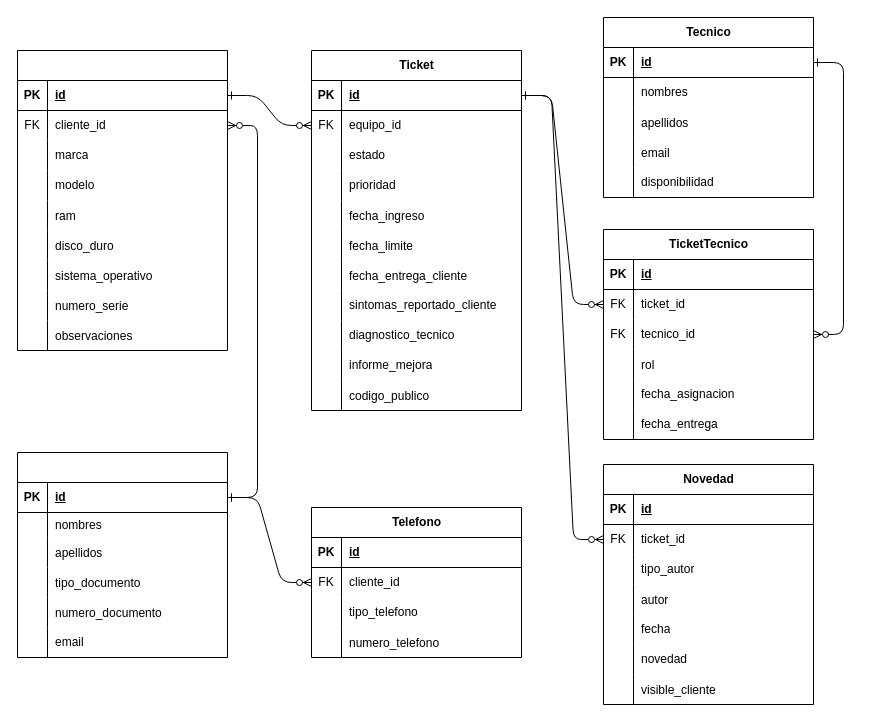
Some shapes in this 870 by 722 pixel diagram are drawn without their labels. Each missing label, with the box of its shape:
Cliente: (16, 452, 228, 658)
Equipo: (16, 50, 228, 350)
